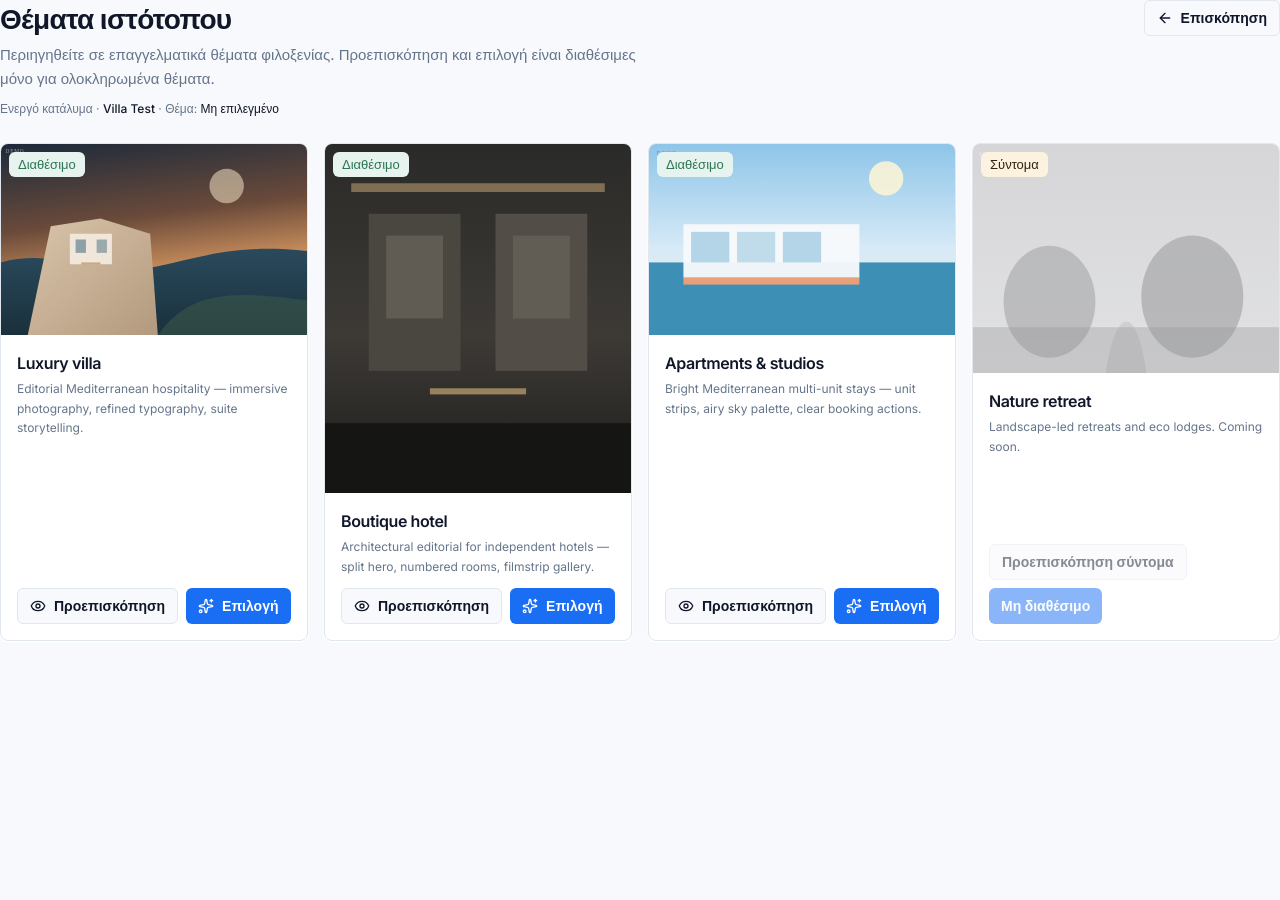
it: ThemeGalleryPage › shows API error on 403 theme selection
Click the button with test id "theme-select-luxury_villa" at (238, 606), box [186,588,291,624]
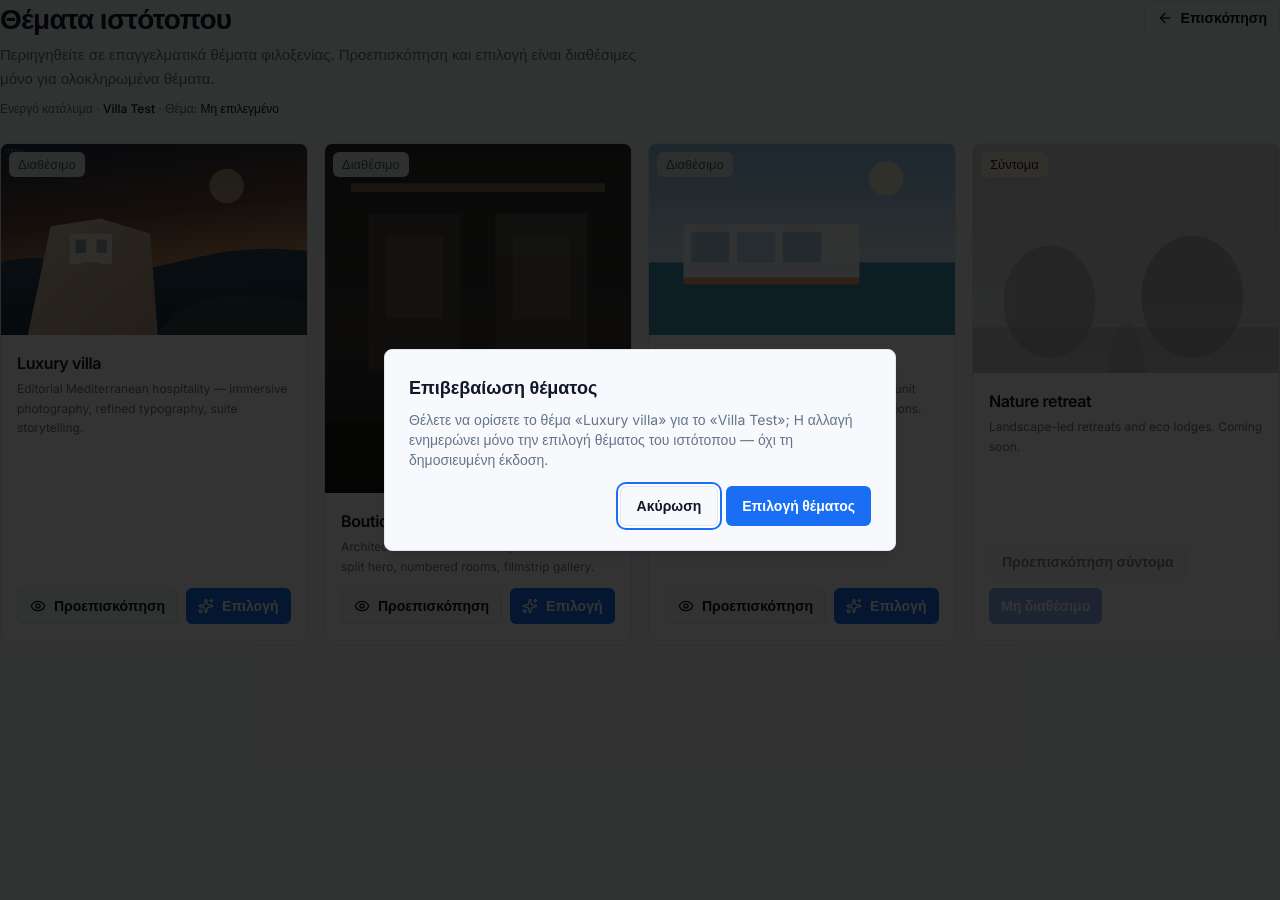
Click the button "Επιλογή θέματος" at (799, 506), box [726,486,871,526]
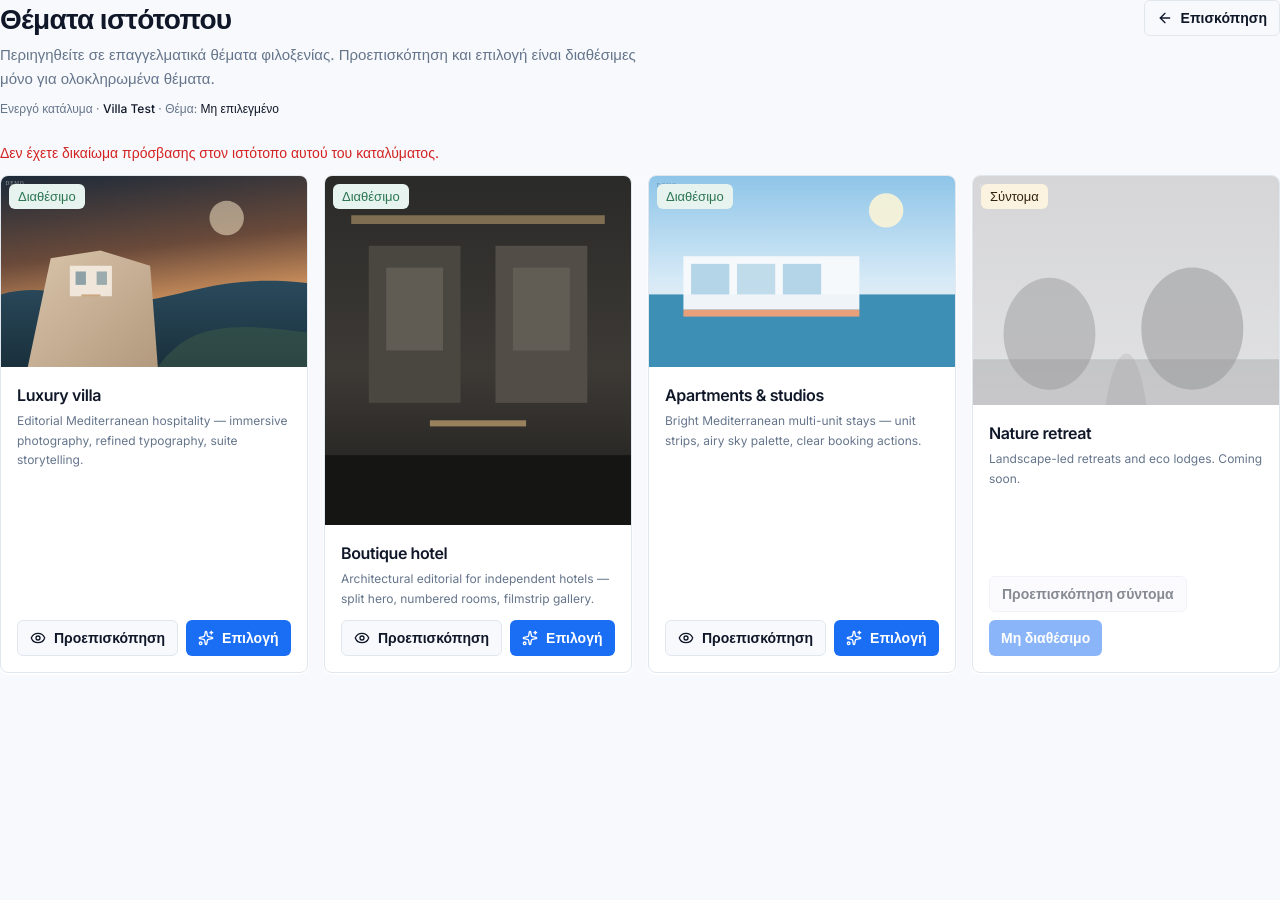
Check: the message shows "δικαίωμα", box [0,144,439,161]
